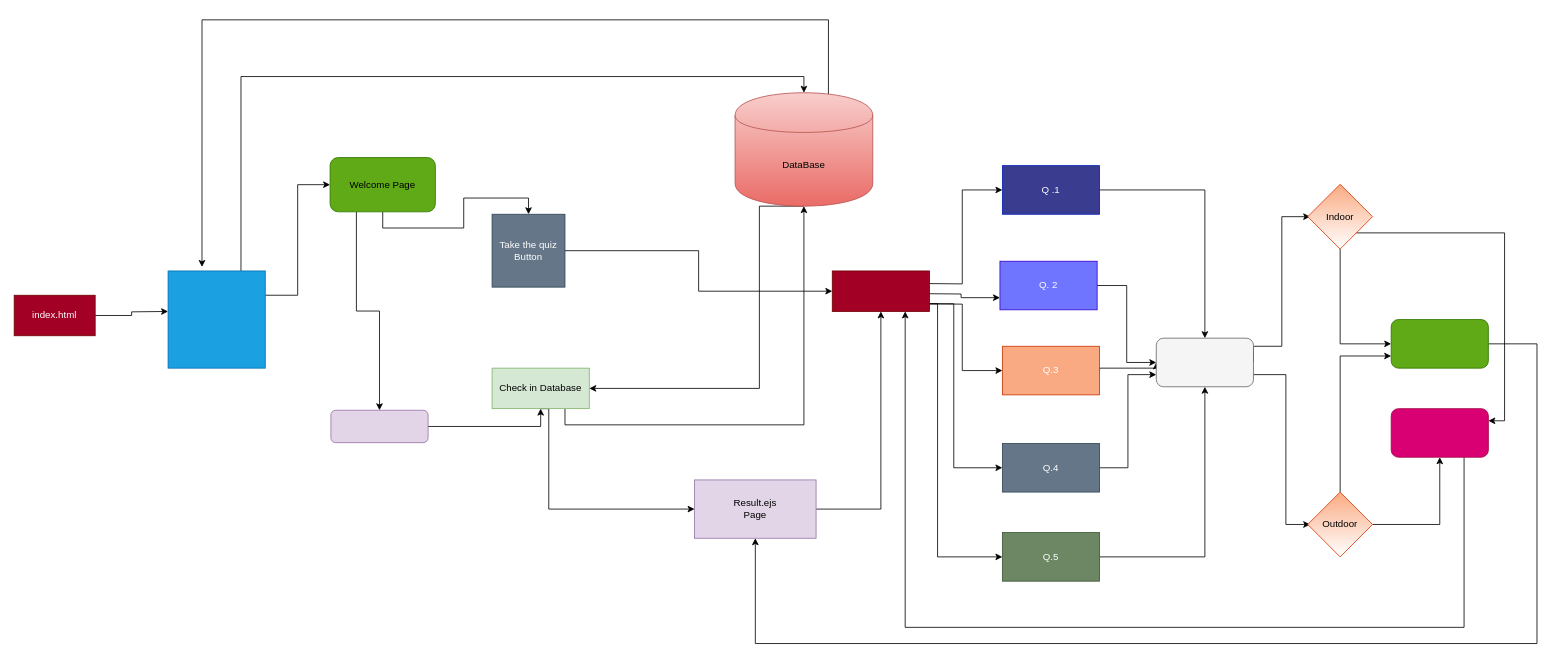
The diagram is 1558 pixels wide and 664 high, and some of its shapes have lost their labels. The centre of each missing label's shape, as x and y in pixels:
Login/Start: the point at 216,319
quiz Index.ejs: the point at 880,290
Save the date: the point at 1439,343
Submit Button: the point at 1204,362
Take the quiz: the point at 1439,432
View result Button: the point at 379,426
